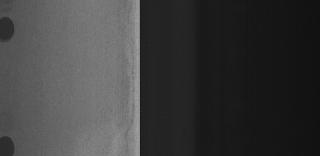oil spot: (1, 125, 20, 155), (1, 13, 18, 45)
